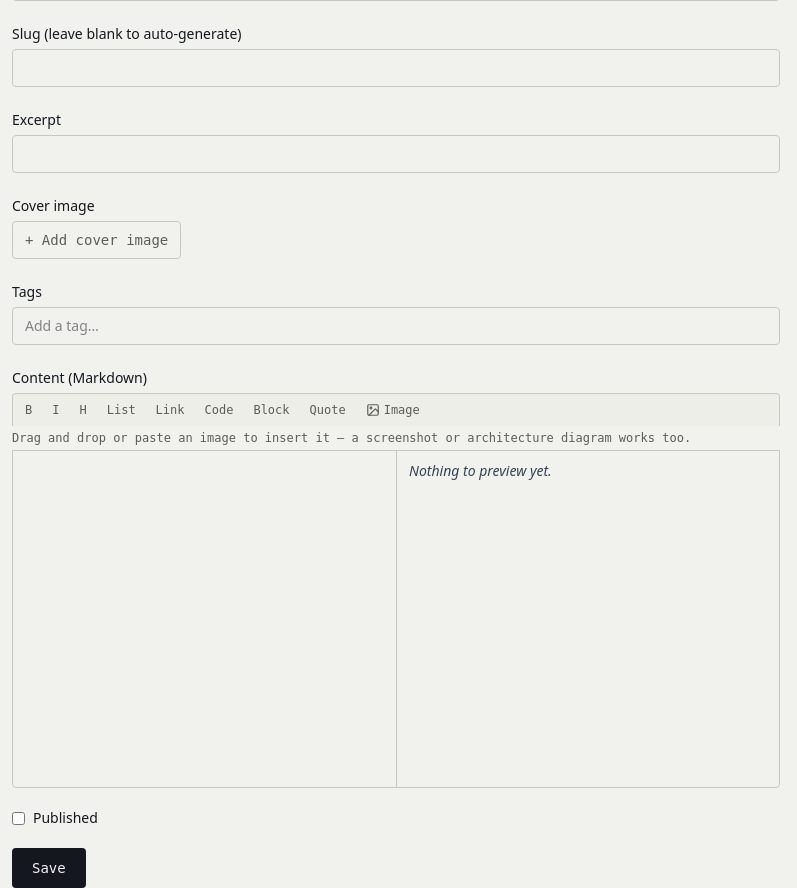
Test: BlogFormPage › shows client-side validation errors without hitting the network
(page scrolled)
Click the button "Save" at (49, 868), box top-left (12, 848), bottom-right (86, 887)
(page scrolled)
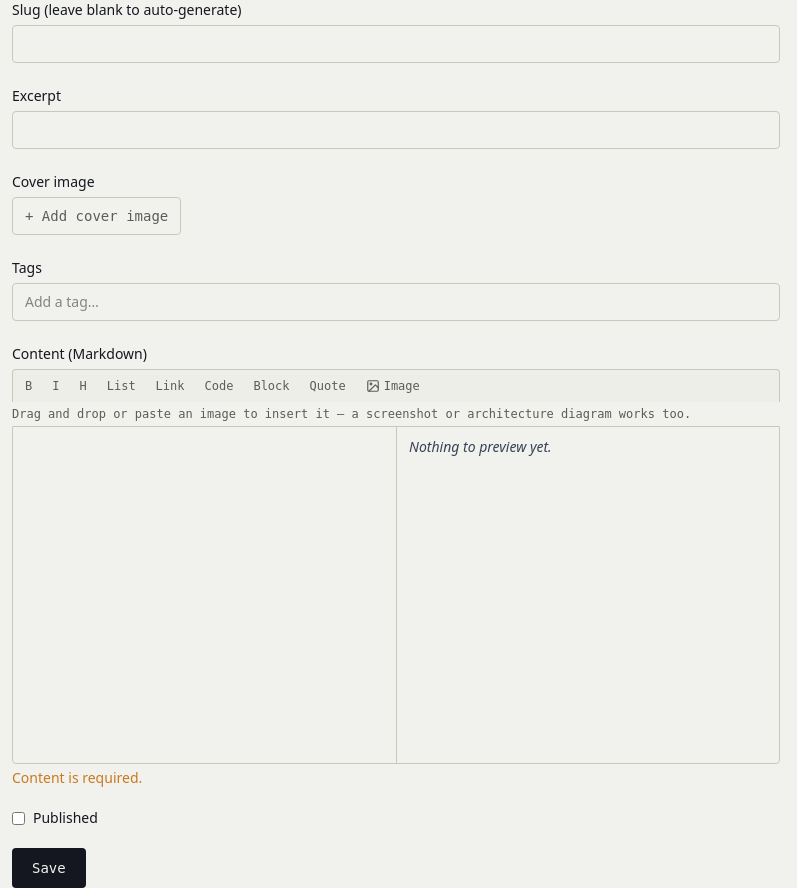
expect the text "Content is required." is shown: met, box top-left (12, 768), bottom-right (142, 787)
